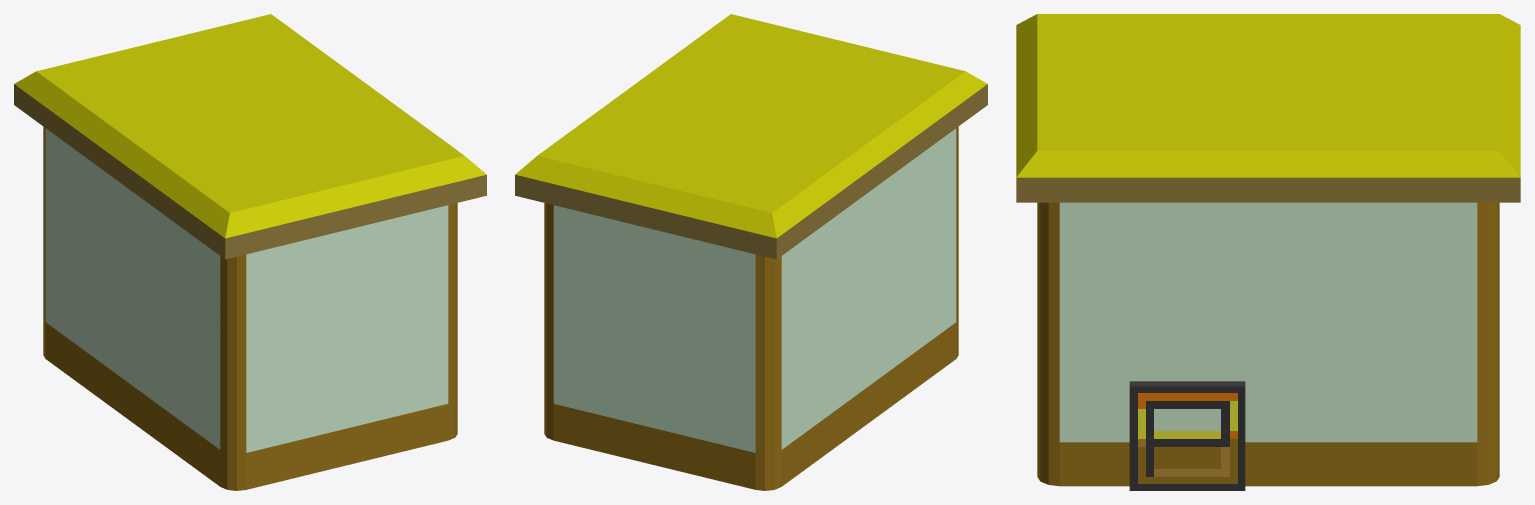
The model's file is prueba.fbx.
3 views of the same model, side by side, from view 1: azimuth 30°, elevation 25°; view 2: azimuth 150°, elevation 25°; view 3: azimuth 270°, elevation 25° (orthographic). The views are drawn at different scales.
Parts seen in each view (by area): view 1: Cube; view 2: Cube; view 3: Cube.
Part boxes in pixels (<box>): Cube: <box>14,14,486,490</box>; Cube: <box>515,14,987,490</box>; Cube: <box>1016,14,1520,490</box>.
Bounding box in the file's own units: 156 × 160 × 218.
